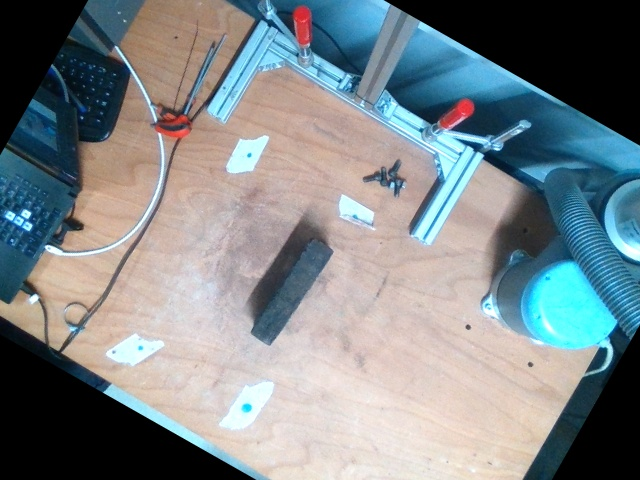brick-side: (249, 238, 333, 345)
